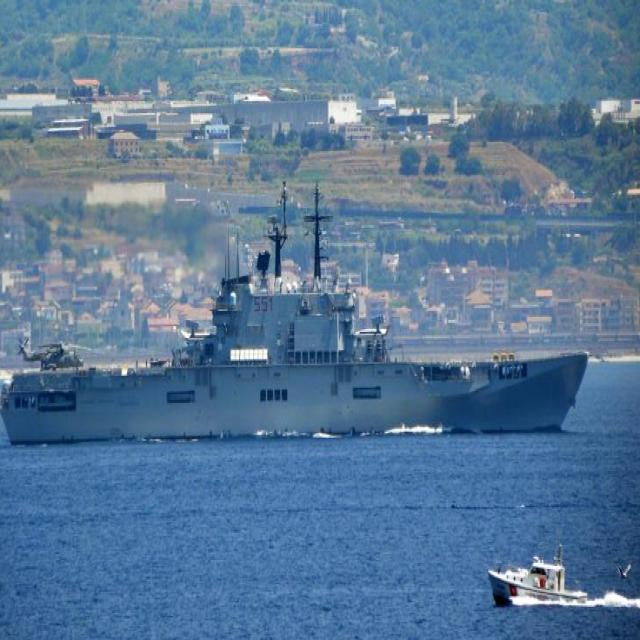Portanaves: (1, 185, 596, 440)
